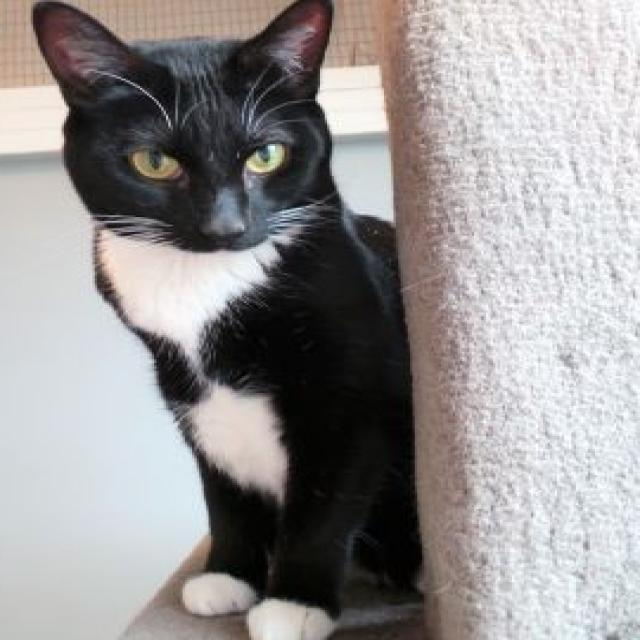Tuxedo: (28, 0, 424, 640)
